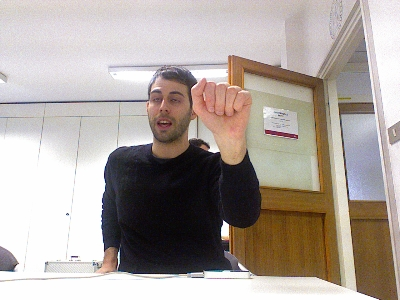石头: (190, 75, 252, 136)
